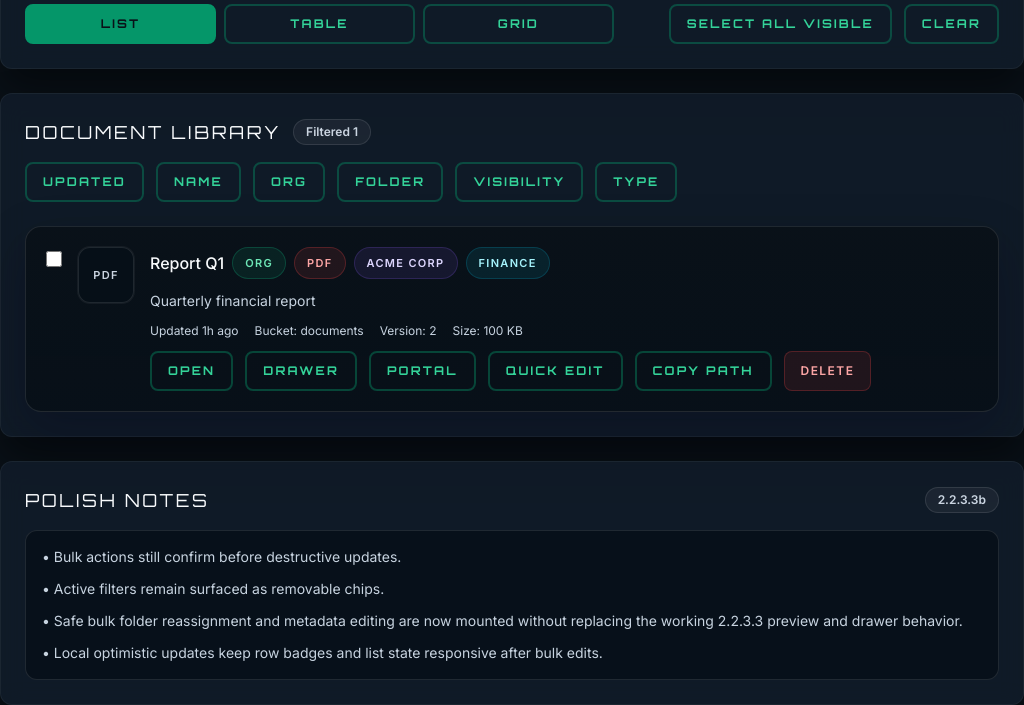
Test: AdminDocumentsCenterClient › quick edit panel › shows quick edit panel when Quick Edit clicked
(page scrolled)
What coordinates should you click on to do the following:
click the button "Quick Edit"
I would click on:
 (555, 371)
Its box is [488,351,623,391].
(page scrolled)
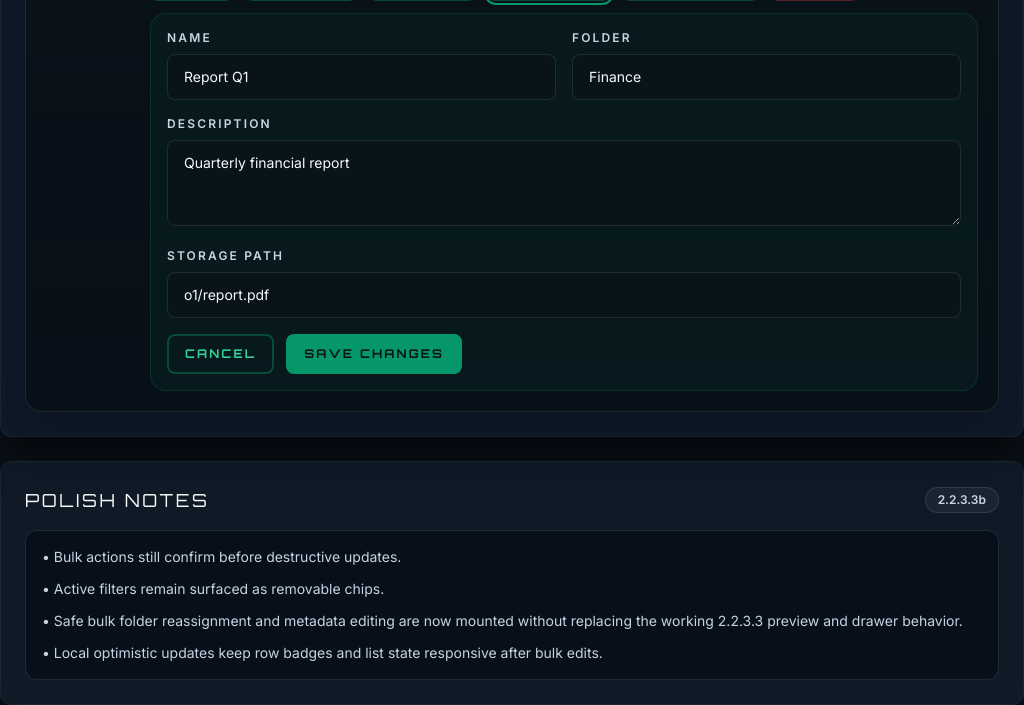
Expected: the button "Save changes" is shown, [286,334,462,374]
Expected: the button "Cancel" is shown, [167,334,274,374]
